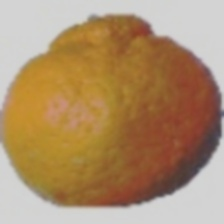tangerine: (34, 2, 216, 194)
